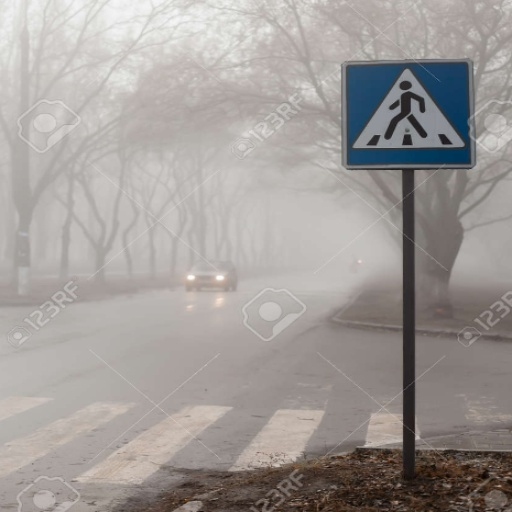Pedestrian crossing: (343, 57, 478, 175)
